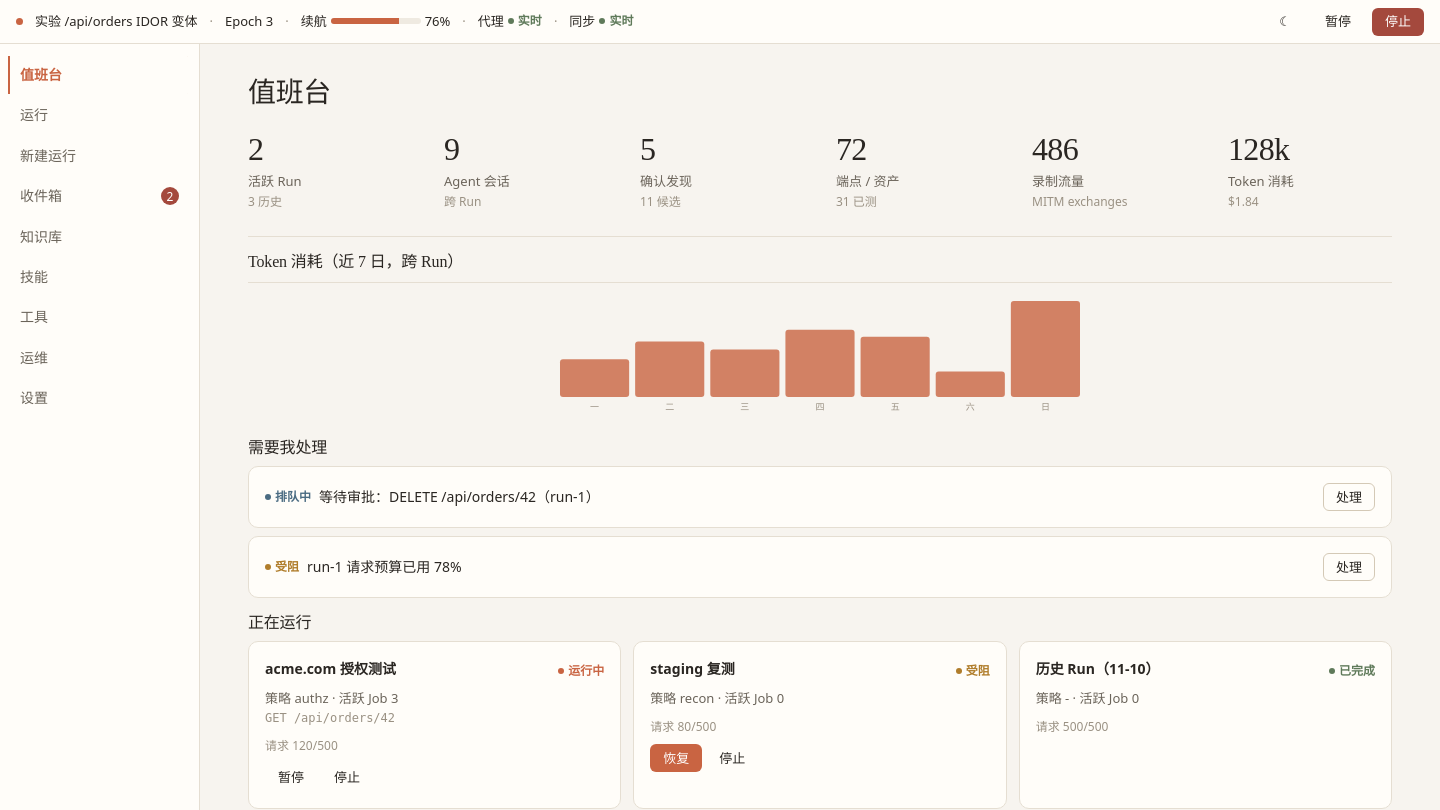
App 外壳与导航 › 点击左导航 Runs → 进入 Runs 列表
The image size is (1440, 810).
Click the link "运行". click: click(34, 115)
box: [20,105,48,124]
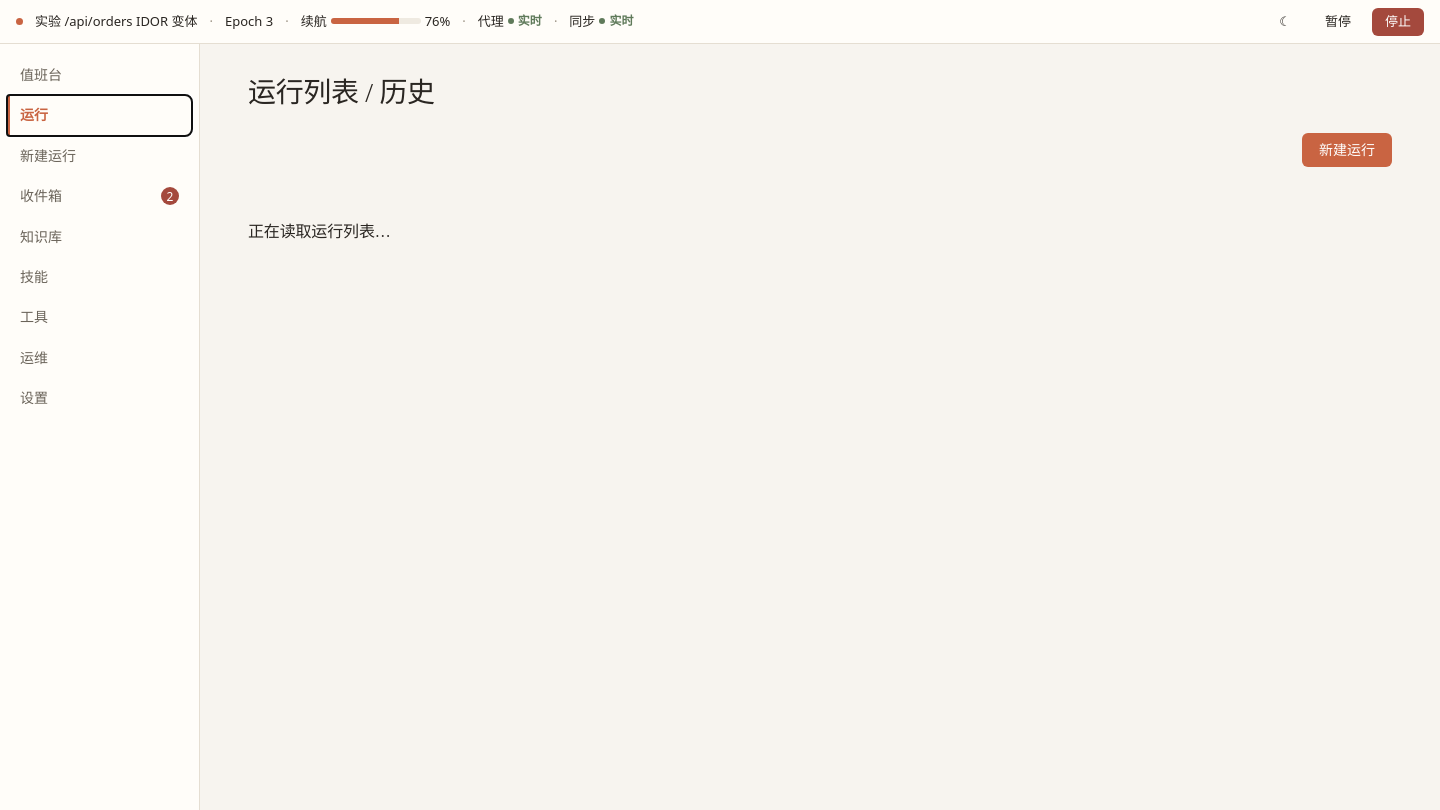
Expected: the heading "运行列表 / 历史" is shown, [248,76,435,109]
